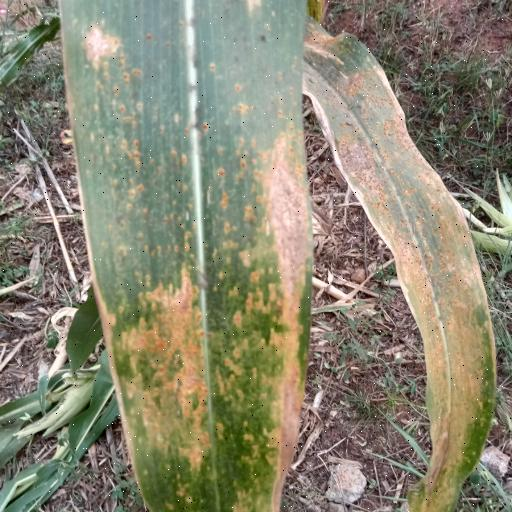Corn_Rust: (56, 0, 318, 512), (288, 7, 505, 512)
